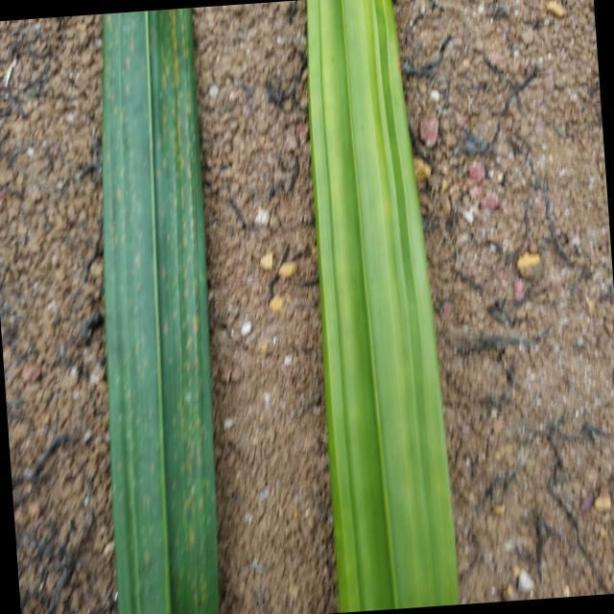nitrogen: (301, 0, 460, 614), (99, 0, 222, 614)
